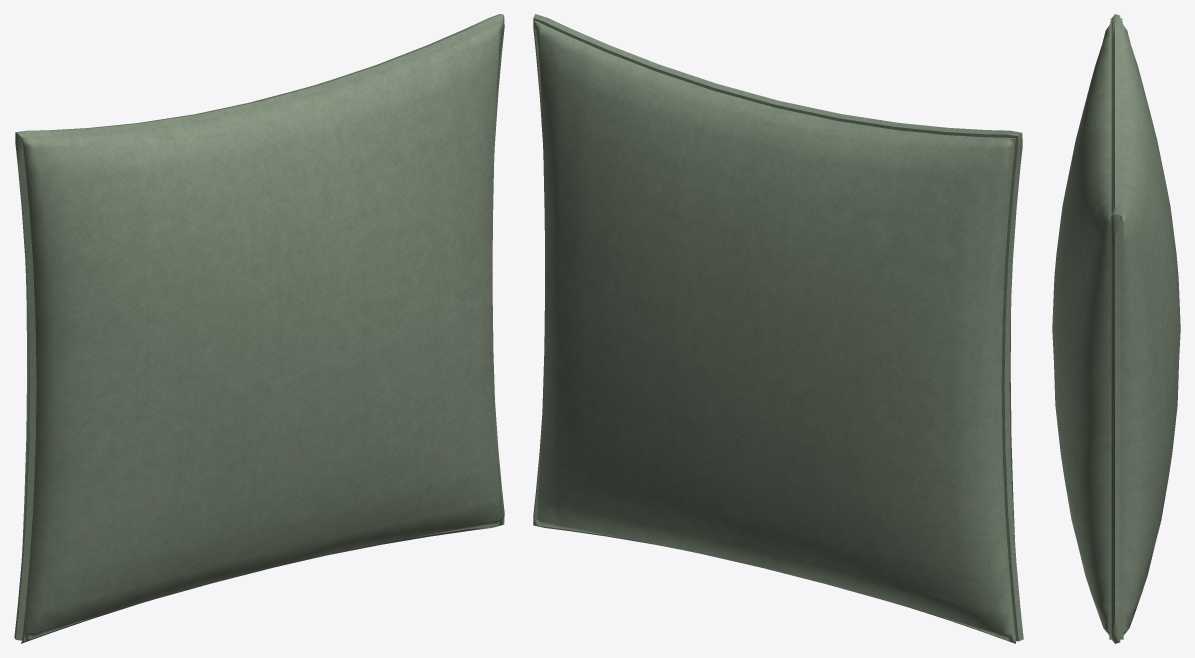
The model's file is ap_pillow_square.glb.
The picture shows the model from 3 angles, left to right: view 1: azimuth 30°, elevation 25°; view 2: azimuth 150°, elevation 25°; view 3: azimuth 270°, elevation 25°; orthographic projection. The views are drawn at different scales.
Visible parts, largest first — view 1: ap_pillow_square; view 2: ap_pillow_square; view 3: ap_pillow_square.
Part boxes in pixels (x1,y1,x2,y2): ap_pillow_square: (14, 14, 504, 643); ap_pillow_square: (533, 14, 1023, 643); ap_pillow_square: (1052, 14, 1180, 643).
Bounding box in the file's own units: 0.4576 × 0.4575 × 0.1236.
Materials: 1 (1 with a texture image).
